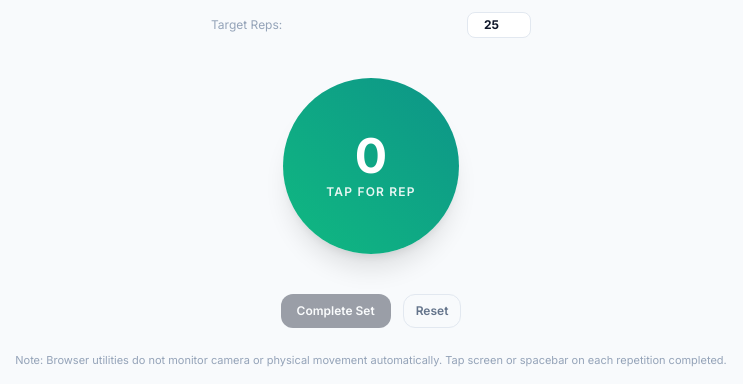
Test: LifeTools Health, Fitness & Wellness Suite › Health UI Components › renders Push-up Counter with interactive tap increment
Click the text "Tap for Rep" at point(371, 192), box x1=326 y1=184 x2=416 y2=200
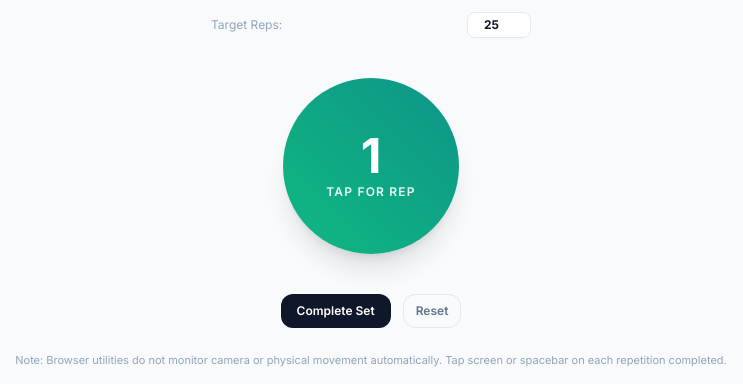
Click the text "Tap for Rep" at point(371, 192), box x1=326 y1=184 x2=416 y2=200
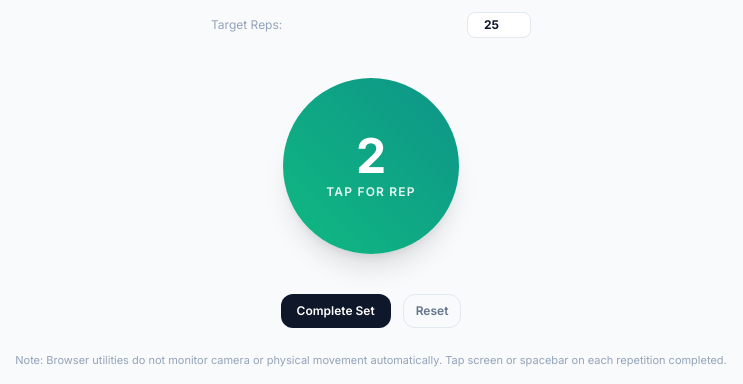
Expected: the text "2" is shown, x1=356 y1=132 x2=386 y2=180
